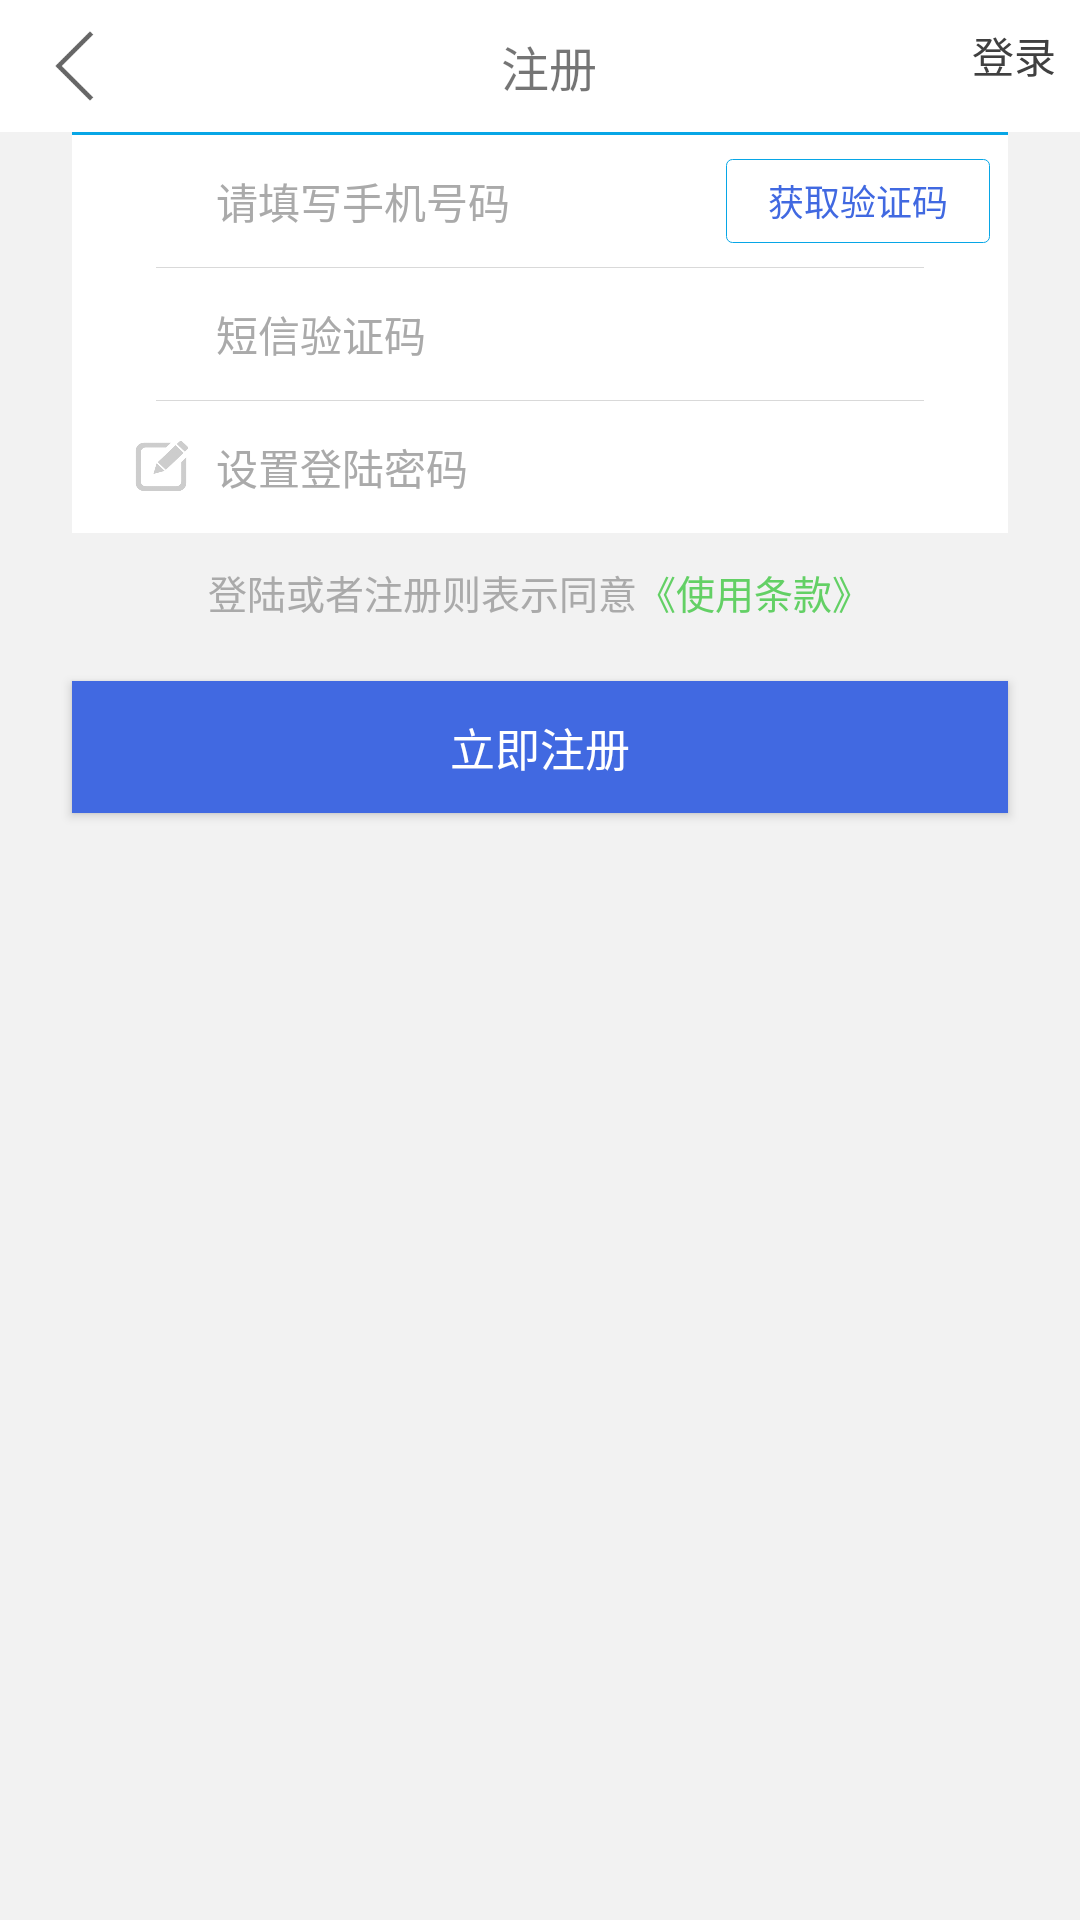

Screen size 1080px x 1920px. Icon name, then its center in pixels as [x,y]:
commen back: [74,66]
sign: [162,466]
